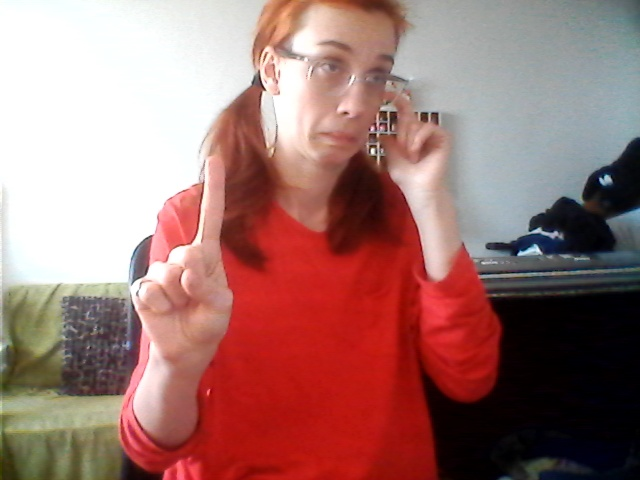i: (121, 149, 277, 364)
